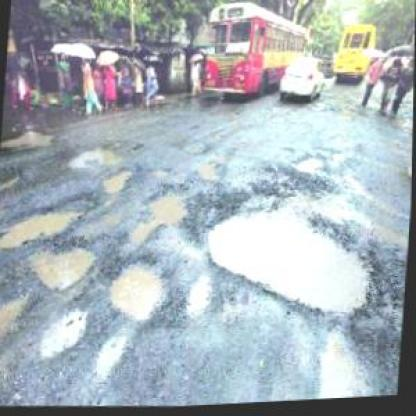pothole: (200, 197, 380, 323), (0, 185, 98, 256), (315, 323, 374, 402), (129, 183, 194, 250), (108, 255, 171, 320), (28, 237, 98, 295), (39, 301, 93, 366), (93, 323, 133, 384), (66, 139, 124, 173), (0, 290, 32, 351), (184, 272, 216, 320), (100, 162, 136, 198), (198, 151, 229, 183), (291, 157, 325, 176)
